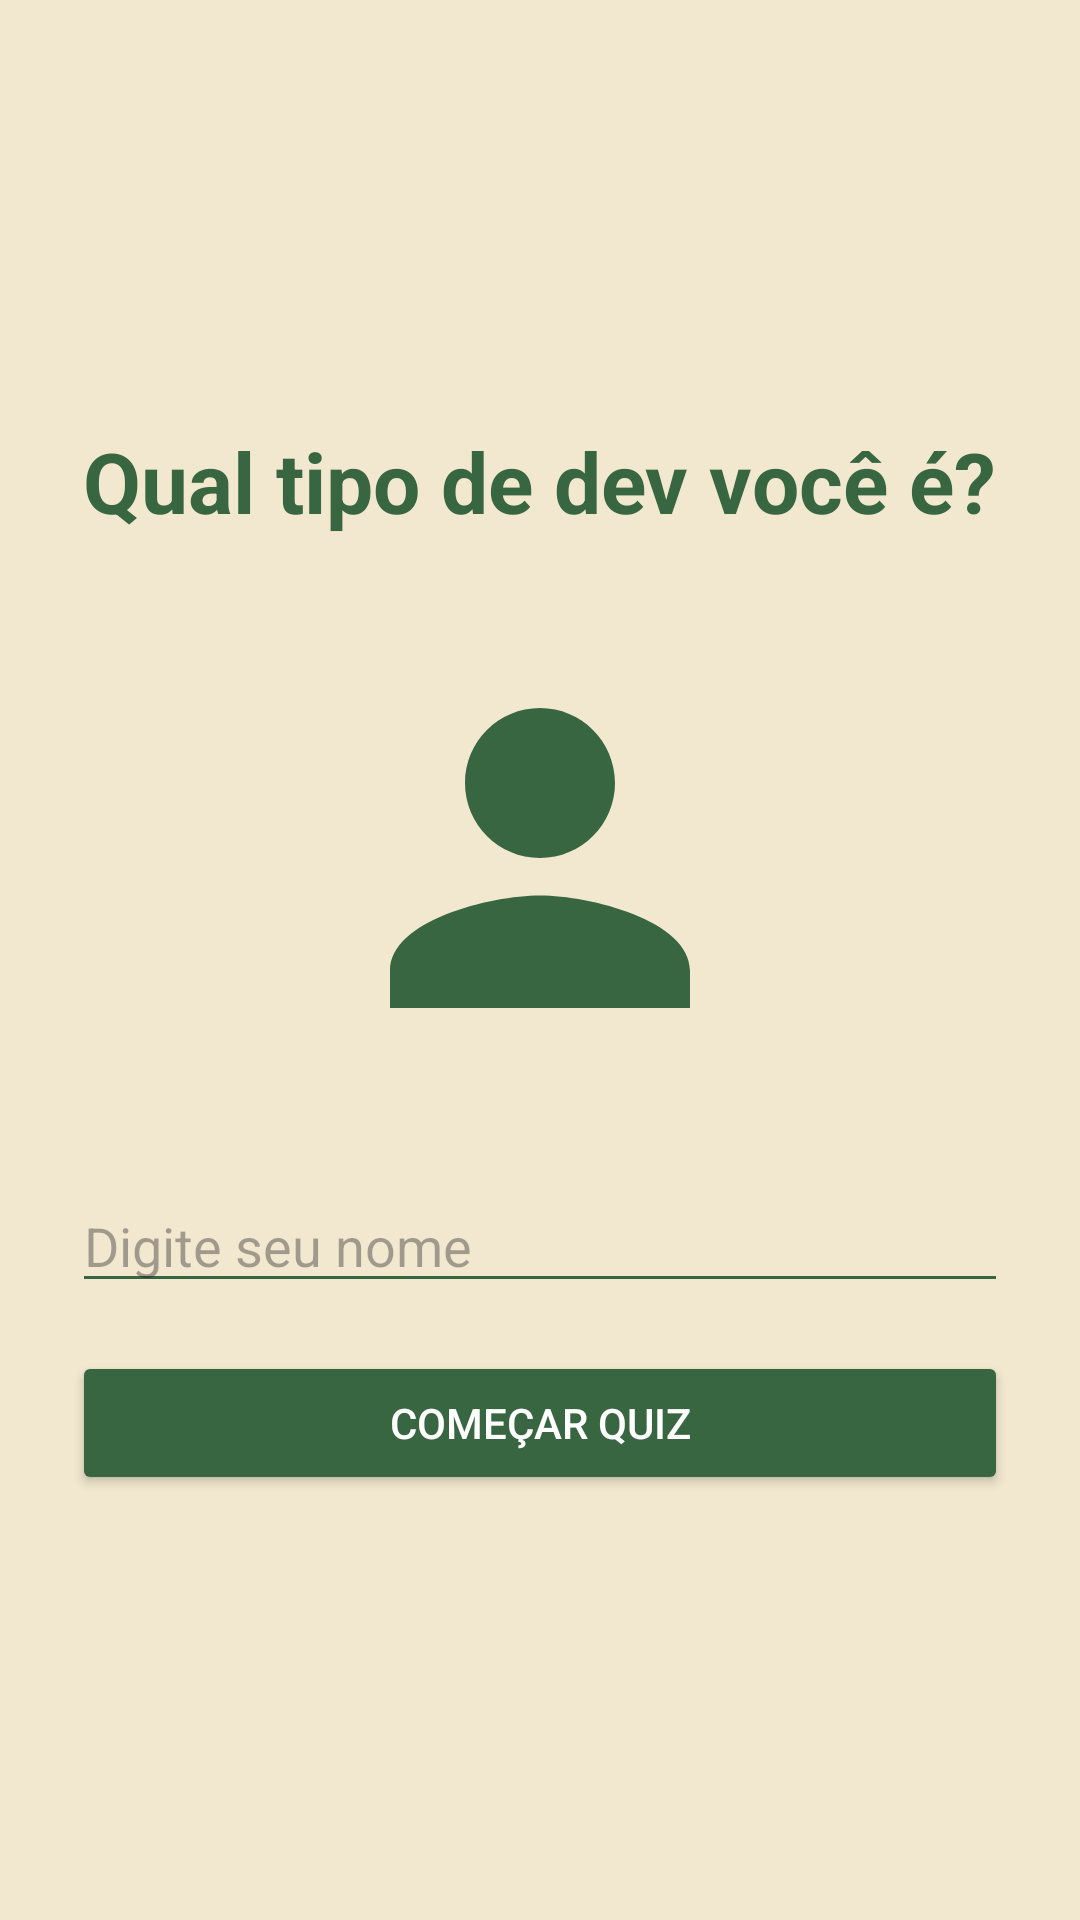

Named icons in this screenshot (1080 x 1920) and their centers, [x,y]:
dev profile: [540,858]
